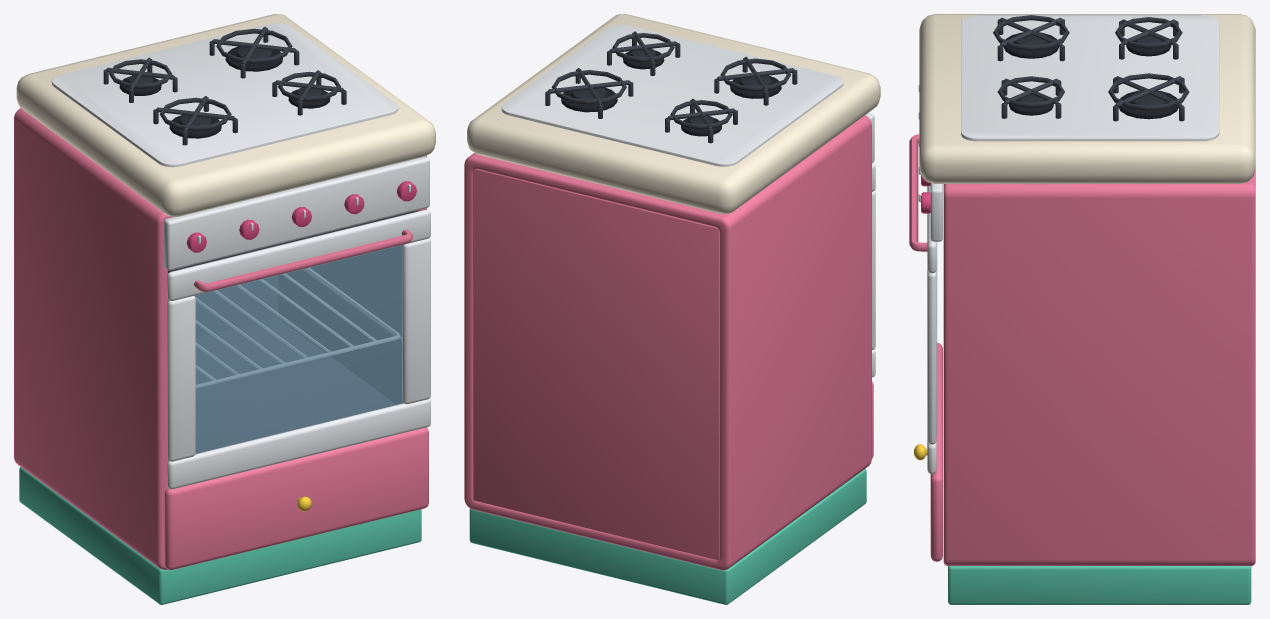
File: fogao_modulo_verde_rosa.glb
3 renders of one model, left to right at view 1: azimuth 30°, elevation 25°; view 2: azimuth 150°, elevation 25°; view 3: azimuth 270°, elevation 25°, orthographic. The views are drawn at different scales.
Parts seen in each view (by area): view 1: fogao_modulo_verde_rosa, porta_forno, gaveta_1; view 2: fogao_modulo_verde_rosa, porta_forno; view 3: fogao_modulo_verde_rosa, porta_forno, gaveta_1.
Boxes of the visible parts, x1,y1,x2,y2 form: fogao_modulo_verde_rosa: (14, 14, 435, 604); porta_forno: (167, 209, 430, 489); gaveta_1: (164, 427, 428, 569); fogao_modulo_verde_rosa: (464, 14, 880, 604); porta_forno: (872, 163, 875, 377); fogao_modulo_verde_rosa: (918, 14, 1255, 604); porta_forno: (909, 134, 937, 474); gaveta_1: (913, 342, 942, 561).
Bounding box in the file's own units: 0.598 × 0.939 × 0.617.
Materials: 2 (1 with a texture image).
